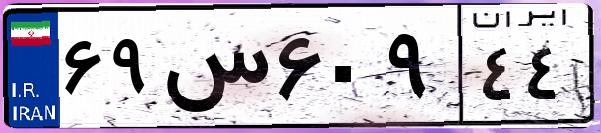0: (330, 28, 385, 110)
4: (475, 38, 525, 113), (525, 38, 570, 115)
6: (270, 28, 330, 110), (57, 26, 110, 100)
9: (385, 28, 445, 110), (110, 28, 158, 98)
س: (158, 20, 270, 120)
